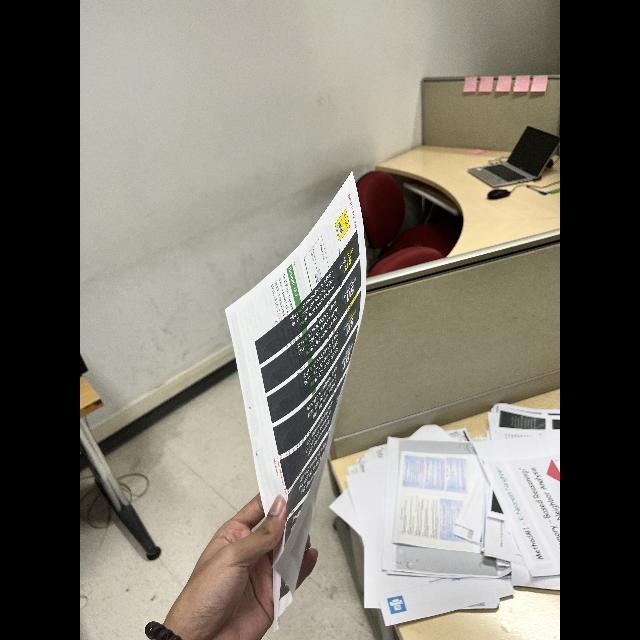reuseable_paper: (214, 170, 376, 622), (330, 397, 560, 633)
